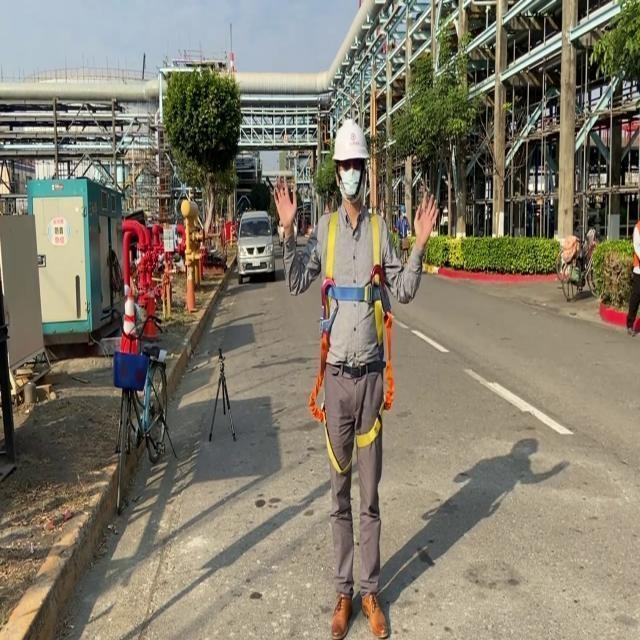Arnes_seguridad: (323, 207, 393, 470)
